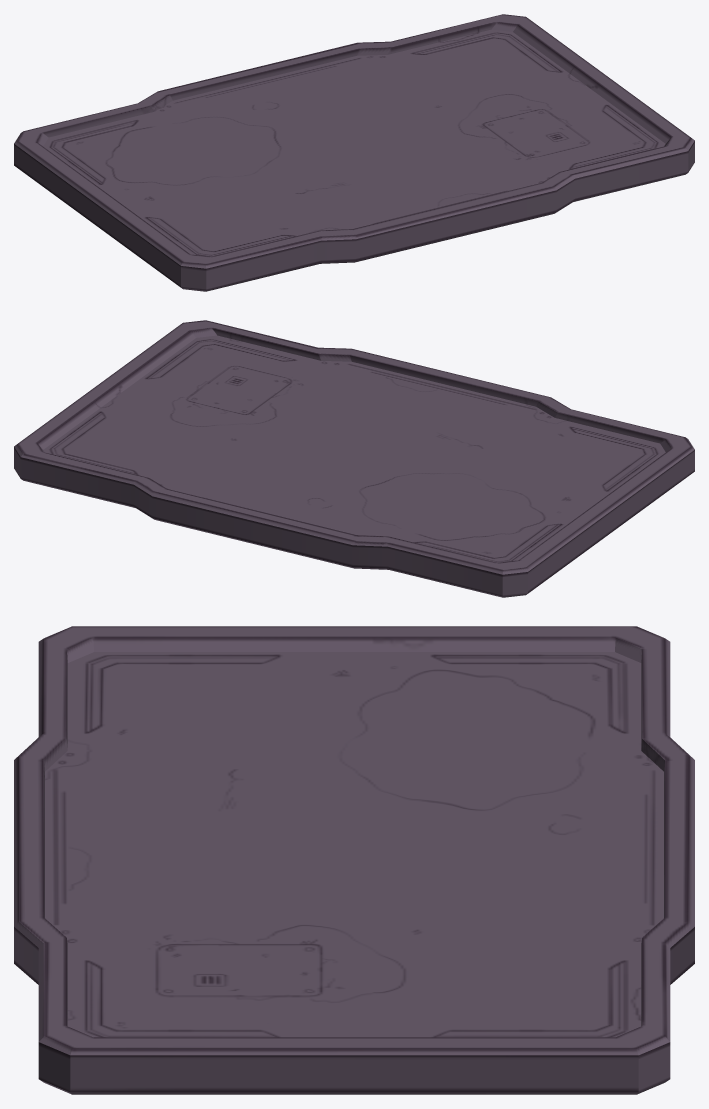
The model's file is MetalAddOn.fbx.
3 views of the same model, one above another, from view 1: azimuth 30°, elevation 25°; view 2: azimuth 150°, elevation 25°; view 3: azimuth 270°, elevation 25° (orthographic). The views are drawn at different scales.
Visible parts, largest first — view 1: Metal_Add; view 2: Metal_Add; view 3: Metal_Add.
Boxes of the visible parts, bbox=[...] form: Metal_Add: bbox=[14, 14, 694, 291]; Metal_Add: bbox=[14, 320, 694, 597]; Metal_Add: bbox=[14, 626, 694, 1094].
Bounding box in the file's own units: 800 × 539 × 40.
